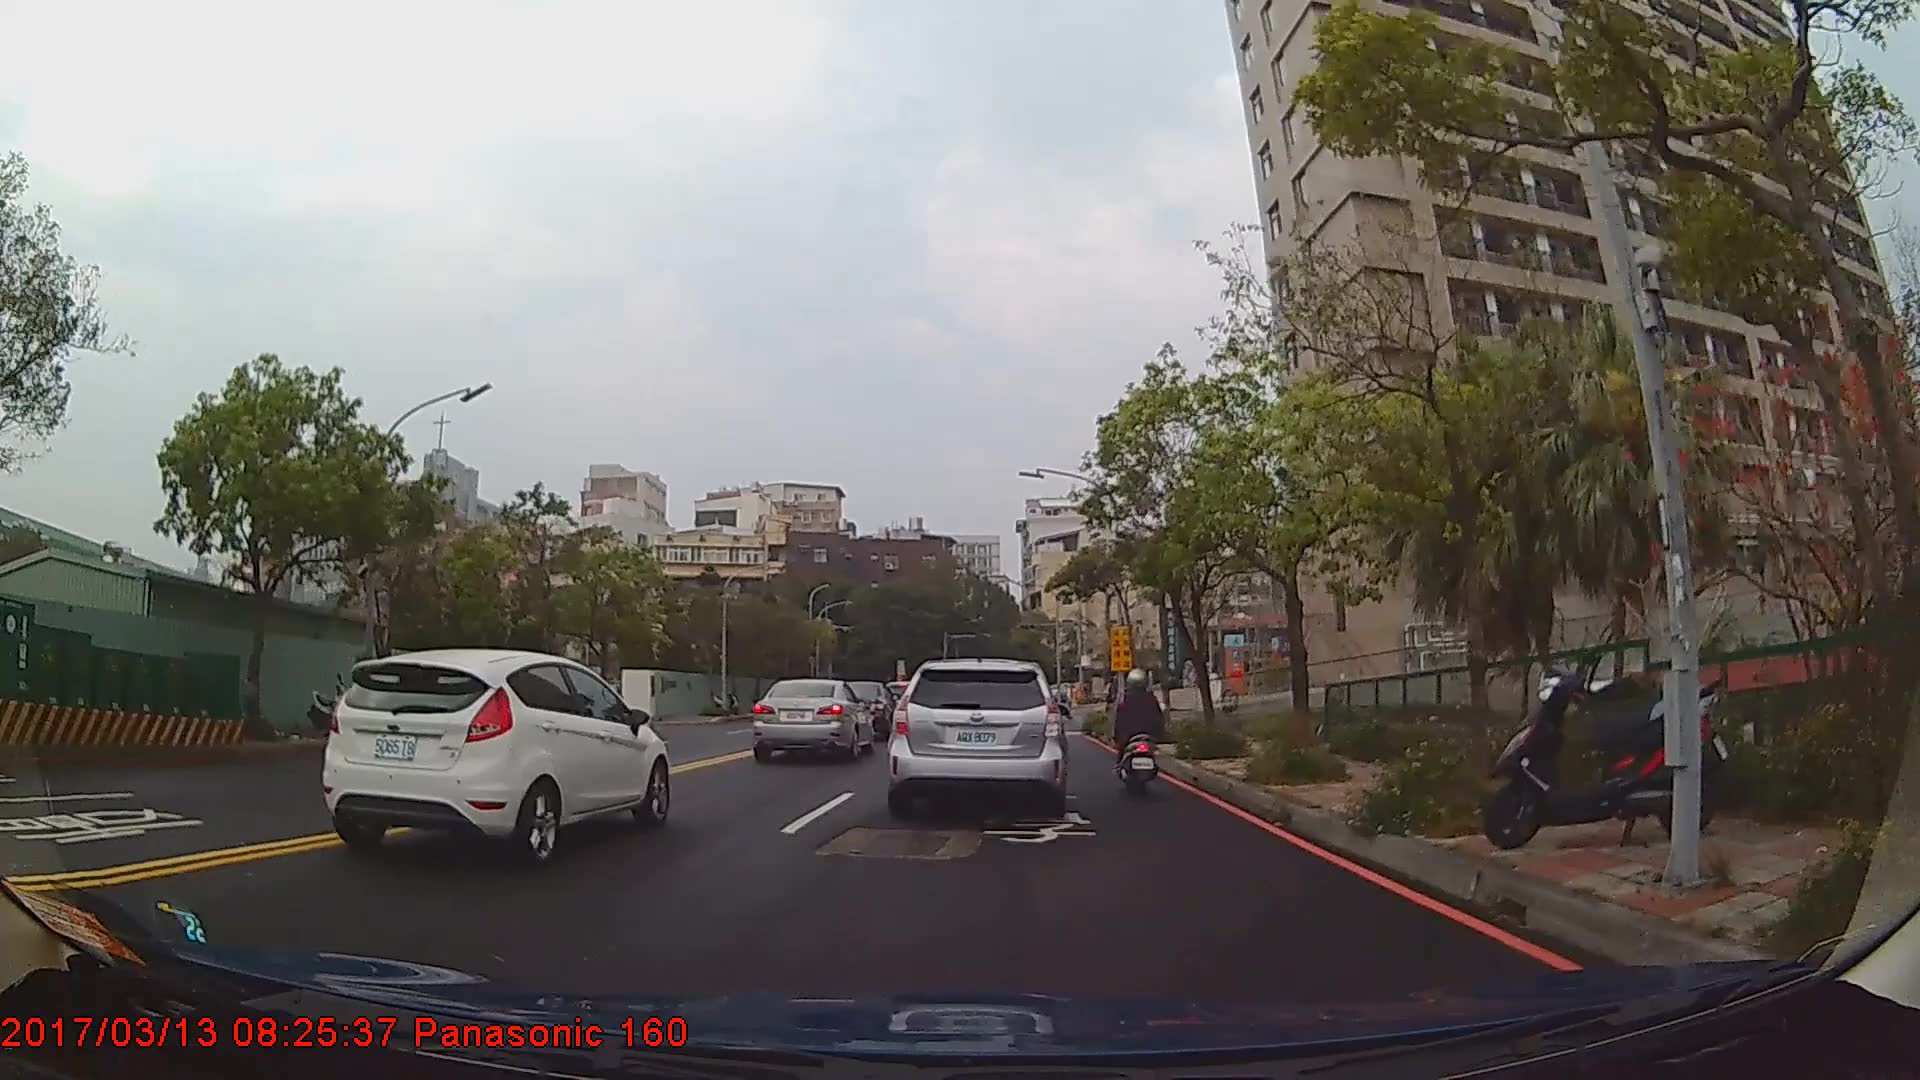rider: (1113, 669, 1166, 799)
vehicle: (321, 646, 669, 866), (888, 658, 1062, 815), (749, 676, 873, 761)
